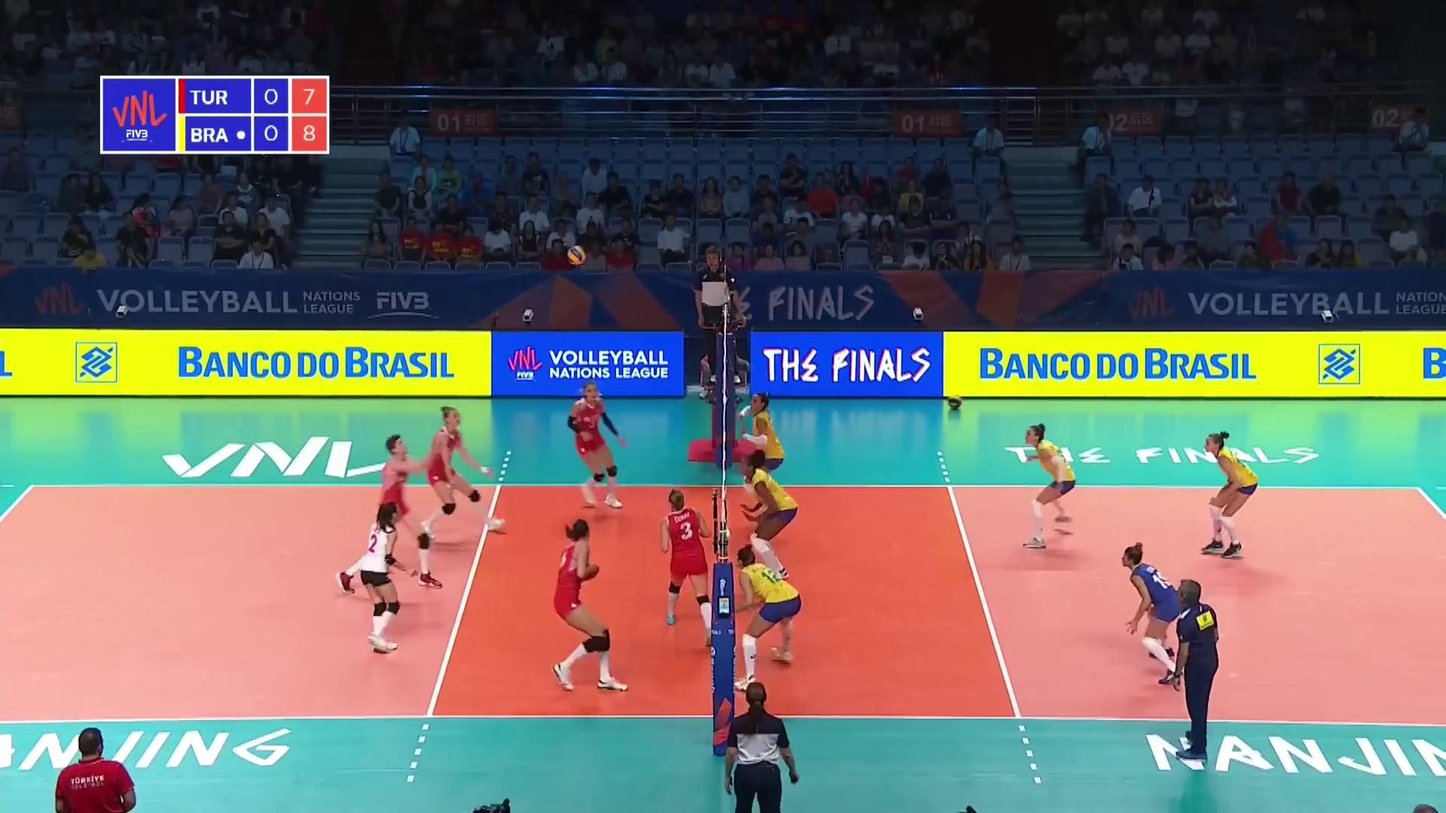player: (337, 437, 441, 591), (550, 521, 629, 693), (421, 406, 509, 537), (1117, 544, 1193, 685), (739, 546, 803, 692), (659, 492, 717, 649), (361, 502, 416, 651), (1197, 434, 1262, 558), (568, 383, 631, 509), (739, 454, 798, 585), (1020, 427, 1082, 549), (742, 393, 787, 515)
refree: (723, 676, 798, 813), (695, 245, 744, 387)
